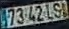2: (33, 4, 45, 22)
3: (15, 6, 25, 24)
4: (28, 5, 36, 22)
7: (6, 8, 15, 26)
L: (44, 3, 54, 20)
S: (52, 2, 62, 18)
